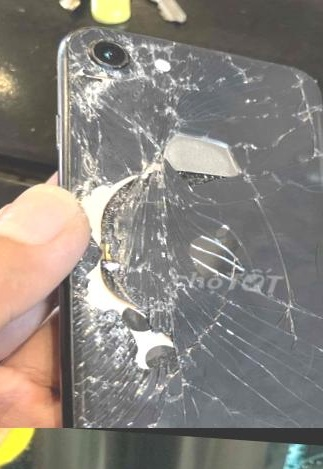physical_damage: (40, 315, 230, 379), (26, 149, 180, 216), (177, 158, 323, 226), (52, 260, 205, 324), (37, 373, 215, 428), (62, 206, 212, 270), (46, 83, 192, 144), (65, 28, 179, 95), (229, 91, 323, 167), (234, 317, 323, 397), (219, 212, 323, 275), (203, 270, 303, 328), (45, 125, 194, 161), (231, 378, 323, 428), (182, 38, 253, 94), (186, 86, 240, 148), (254, 53, 323, 99), (292, 278, 323, 348)
